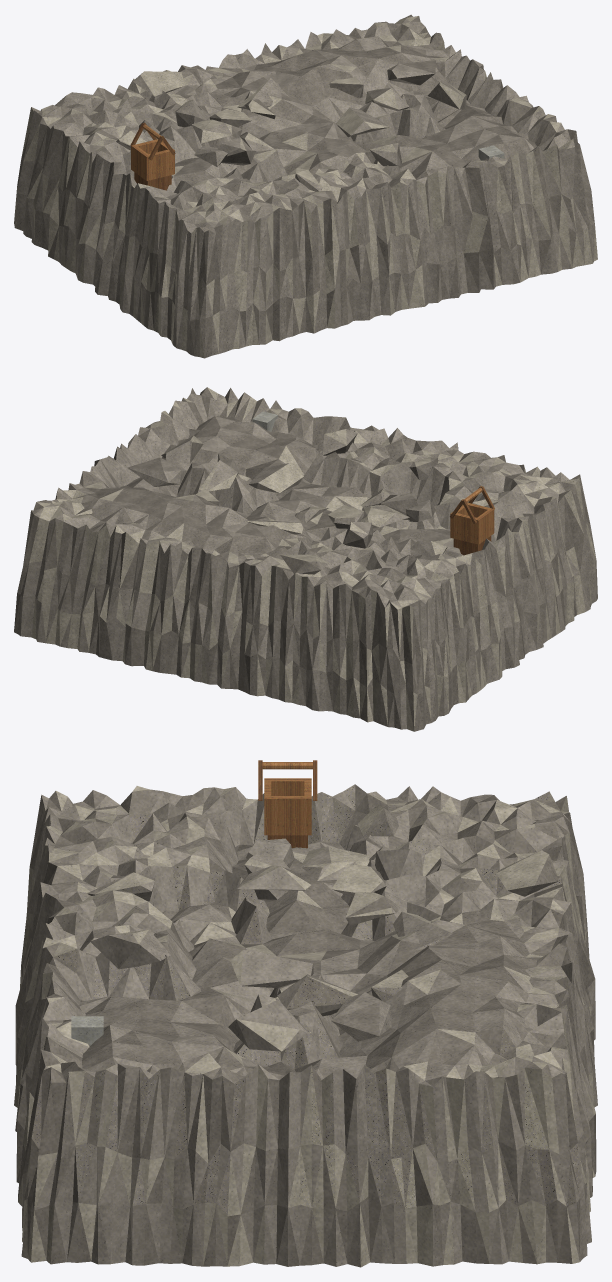
File: cavern.glb
The picture shows the model from 3 angles, top to bottom: view 1: azimuth 30°, elevation 25°; view 2: azimuth 150°, elevation 25°; view 3: azimuth 270°, elevation 25°; orthographic projection. The views are drawn at different scales.
Parts seen in each view (by area): view 1: Cavern_ShellSkin, Cavern_ShellRockTop, Cavern_RoofCeiling, Cavern_RoofBoulders, Cavern_RoofShaftHead, Cavern_ShellPillar; view 2: Cavern_ShellSkin, Cavern_ShellRockTop, Cavern_RoofCeiling, Cavern_RoofBoulders, Cavern_RoofShaftHead; view 3: Cavern_ShellSkin, Cavern_ShellRockTop, Cavern_RoofCeiling, Cavern_RoofBoulders, Cavern_RoofShaftHead, Cavern_ServiceFurnace_Furnace.
Part boxes in pixels (left/top/right/bottom): Cavern_ShellSkin: left=14, top=42, right=597, bottom=358; Cavern_ShellRockTop: left=31, top=14, right=575, bottom=233; Cavern_RoofCeiling: left=133, top=36, right=543, bottom=192; Cavern_RoofBoulders: left=116, top=60, right=466, bottom=191; Cavern_RoofShaftHead: left=130, top=122, right=175, bottom=180; Cavern_ShellPillar: left=329, top=77, right=363, bottom=98; Cavern_ShellSkin: left=14, top=443, right=597, bottom=731; Cavern_ShellRockTop: left=31, top=387, right=579, bottom=609; Cavern_RoofCeiling: left=81, top=416, right=494, bottom=557; Cavern_RoofBoulders: left=127, top=429, right=447, bottom=574; Cavern_RoofShaftHead: left=450, top=486, right=494, bottom=544; Cavern_ShellSkin: left=14, top=795, right=597, bottom=1267; Cavern_ShellRockTop: left=40, top=784, right=572, bottom=1086; Cavern_RoofCeiling: left=79, top=842, right=536, bottom=1079; Cavern_RoofBoulders: left=87, top=804, right=558, bottom=1051; Cavern_RoofShaftHead: left=258, top=760, right=317, bottom=835; Cavern_ServiceFurnace_Furnace: left=71, top=1016, right=103, bottom=1045.
Size of the model in its own units: 20.07 by 7.13 by 16.04.
19 materials, 12 textured.
